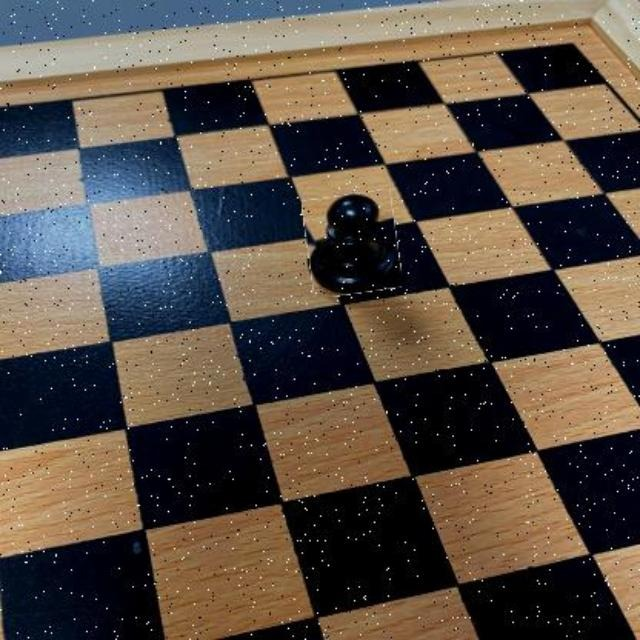black-pawn: (304, 193, 399, 296)
